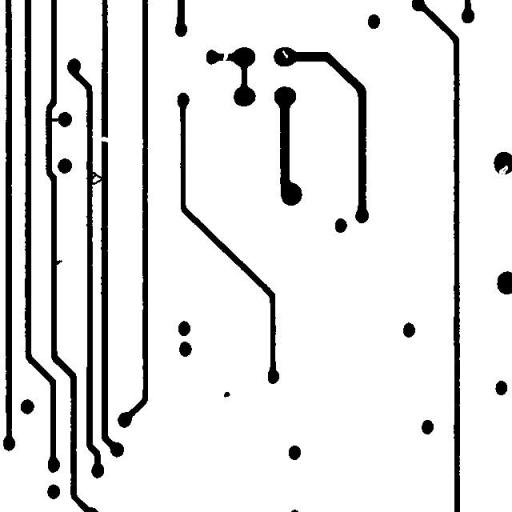copper: (216, 384, 238, 405)
mousebite: (491, 158, 511, 187)
open: (215, 42, 236, 69), (94, 128, 118, 150)
pin-hole: (274, 42, 296, 66)
short: (82, 162, 111, 192), (41, 110, 68, 129)
spur: (46, 252, 70, 272)
